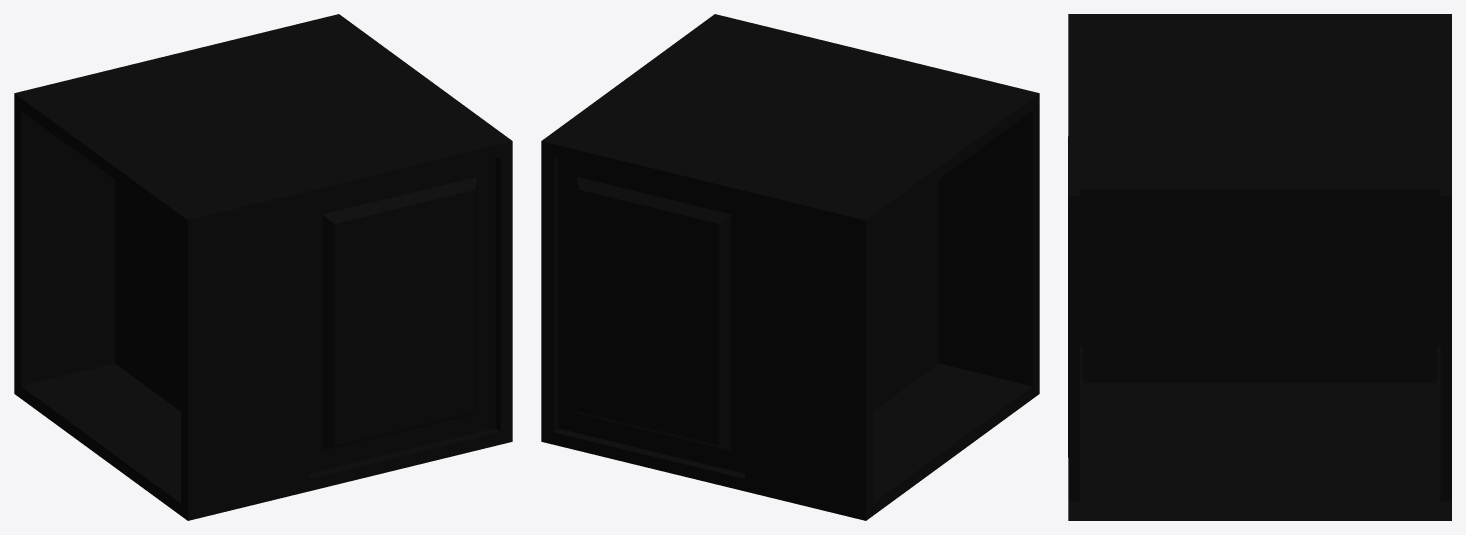
File: Itr_Diningtable_Body_Left_05.FBX
3 renders of one model, left to right at view 1: azimuth 30°, elevation 25°; view 2: azimuth 150°, elevation 25°; view 3: azimuth 270°, elevation 25°, orthographic. The views are drawn at different scales.
Parts seen in each view (by area): view 1: Itr_Diningtable_Body_Left_05; view 2: Itr_Diningtable_Body_Left_05; view 3: Itr_Diningtable_Body_Left_05.
Part boxes in pixels (x1,y1,x2,y2): Itr_Diningtable_Body_Left_05: (14,14,512,520); Itr_Diningtable_Body_Left_05: (541,14,1039,520); Itr_Diningtable_Body_Left_05: (1068,14,1451,520).
Bounding box in the file's own units: 37.22 × 32.91 × 34.5.
